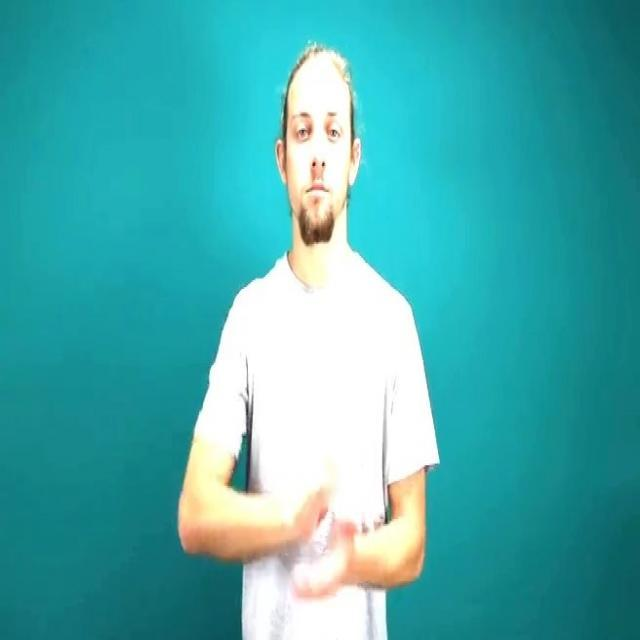cheese: (273, 462, 364, 611)
